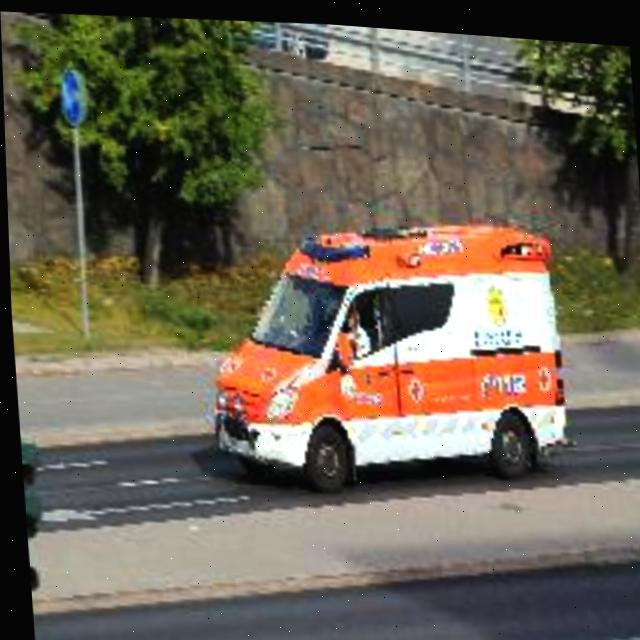emergency: (191, 204, 583, 512)
